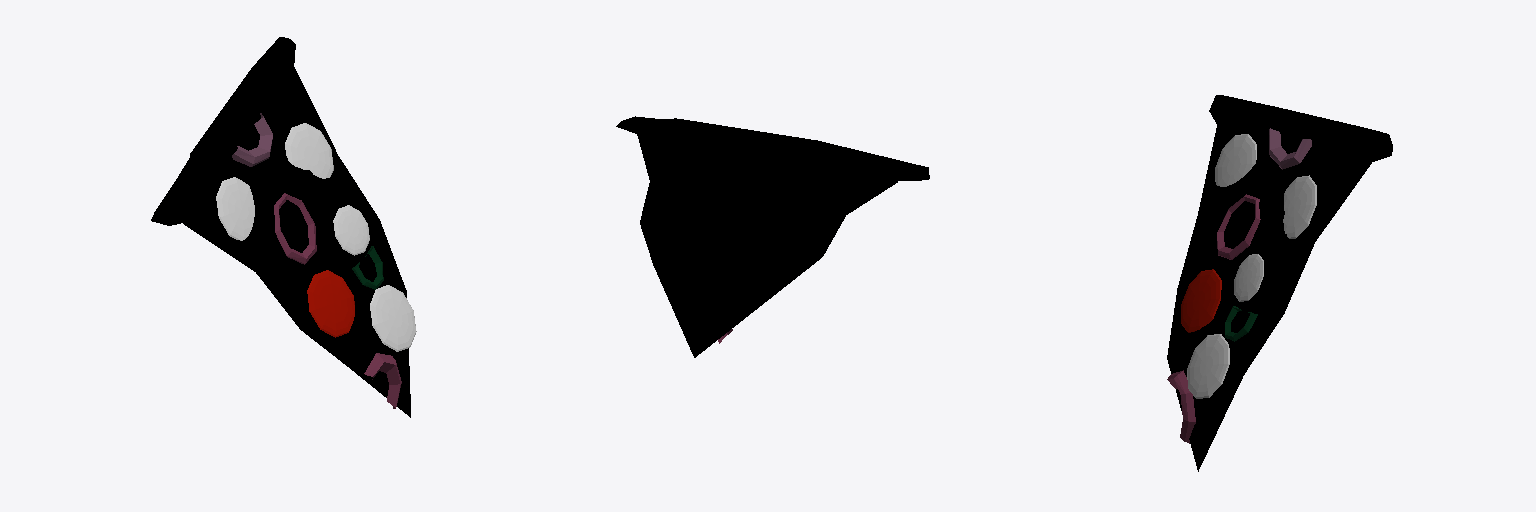
Rendered from PIZZA.obj.
The picture shows the model from 3 angles: view 1: azimuth 30°, elevation 25°; view 2: azimuth 150°, elevation 25°; view 3: azimuth 270°, elevation 25°; orthographic projection.
Visible parts, largest first — view 1: pSphere2; view 2: pSphere2; view 3: pSphere2.
Part boxes in pixels (bbox=[...]): pSphere2: bbox=[151, 37, 416, 417]; pSphere2: bbox=[616, 116, 929, 357]; pSphere2: bbox=[1167, 95, 1392, 471].
Size of the model in its own units: 1.73 by 1.99 by 1.27.